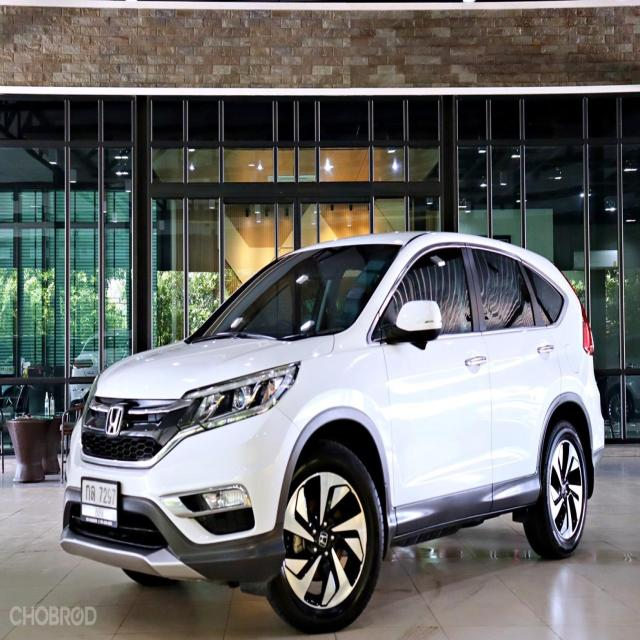license_plate: (81, 475, 121, 531)
